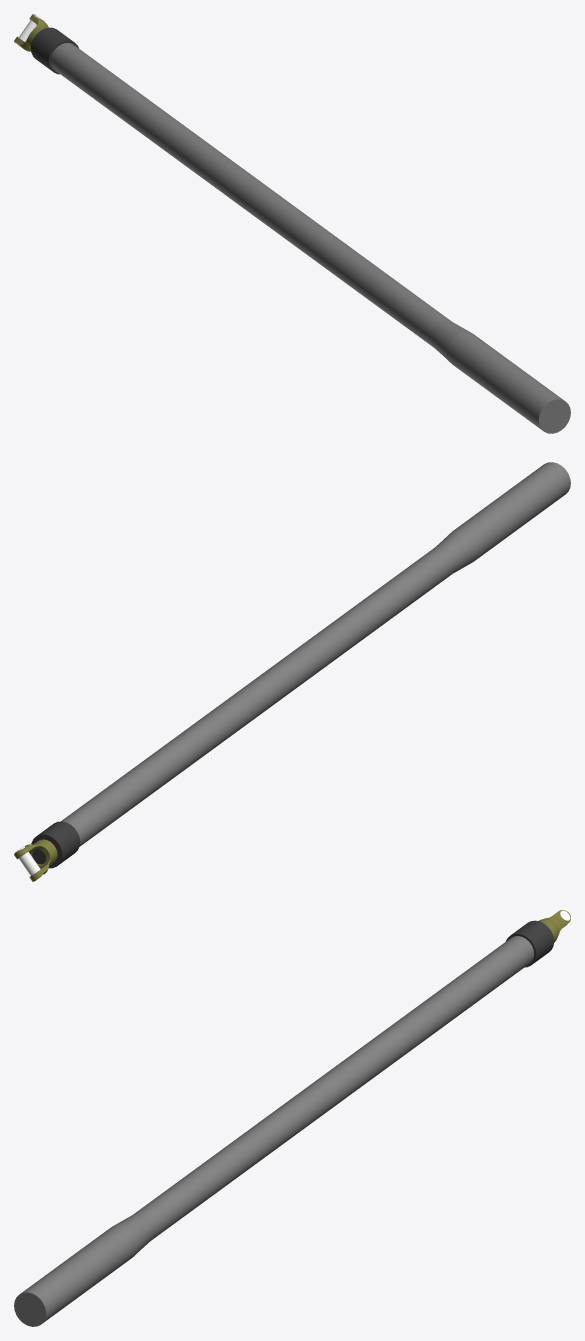
Rendered from RevoluteLinkLower.glb.
3 renders of one model, top to bottom at view 1: azimuth 30°, elevation 25°; view 2: azimuth 150°, elevation 25°; view 3: azimuth 330°, elevation 25°, orthographic.
Parts seen in each view (by area): view 1: IRB360_6-1600-STD-4D_rev03_RevoluteLinkLower_CAD; view 2: IRB360_6-1600-STD-4D_rev03_RevoluteLinkLower_CAD; view 3: IRB360_6-1600-STD-4D_rev03_RevoluteLinkLower_CAD.
Part boxes in pixels (bbox=[...]): IRB360_6-1600-STD-4D_rev03_RevoluteLinkLower_CAD: bbox=[14, 14, 570, 433]; IRB360_6-1600-STD-4D_rev03_RevoluteLinkLower_CAD: bbox=[14, 462, 570, 881]; IRB360_6-1600-STD-4D_rev03_RevoluteLinkLower_CAD: bbox=[14, 910, 570, 1326].
Size of the model in its own units: 0.0275 by 0.0272 by 0.7823.
